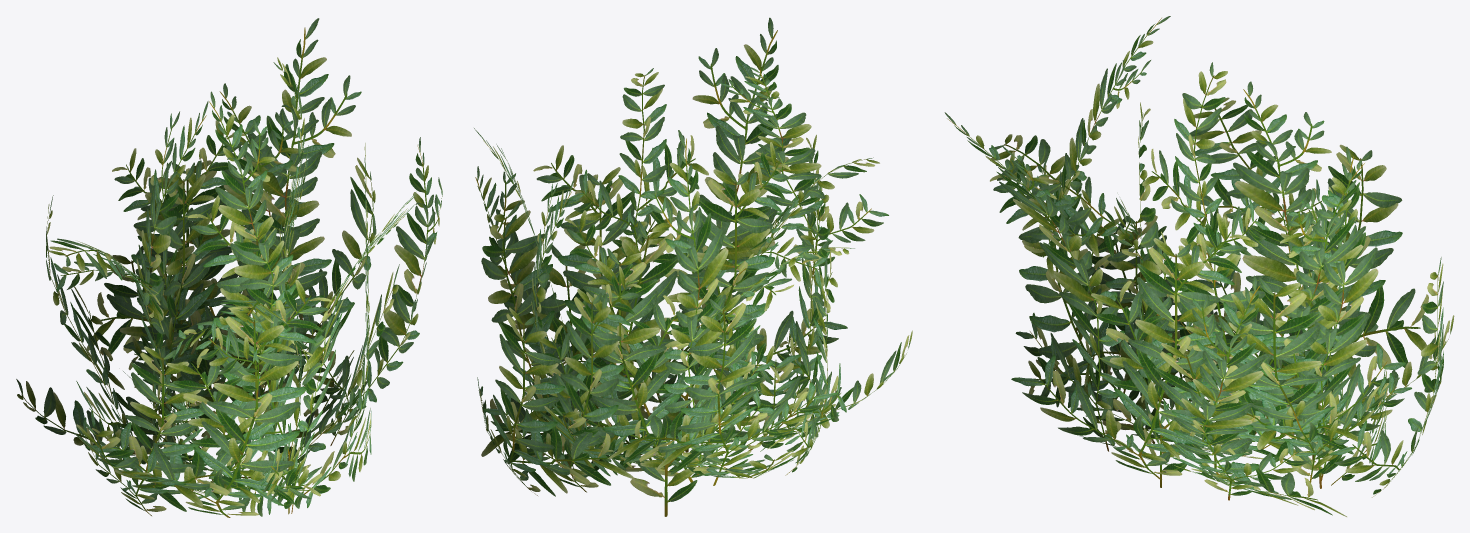
File: SM_bush_01_dry.fbx
3 views of the same model, side by side, from view 1: azimuth 30°, elevation 25°; view 2: azimuth 150°, elevation 25°; view 3: azimuth 270°, elevation 25° (orthographic). The views are drawn at different scales.
Parts seen in each view (by area): view 1: SM_bush_01_dry_LOD0; view 2: SM_bush_01_dry_LOD0; view 3: SM_bush_01_dry_LOD0.
Part boxes in pixels (left/top/right/bottom): SM_bush_01_dry_LOD0: left=16, top=18, right=442, bottom=517; SM_bush_01_dry_LOD0: left=474, top=17, right=912, bottom=516; SM_bush_01_dry_LOD0: left=944, top=16, right=1454, bottom=516.
Bounding box in the file's own units: 84.22 × 92.99 × 88.1.
Materials: 1 (1 with a texture image).
